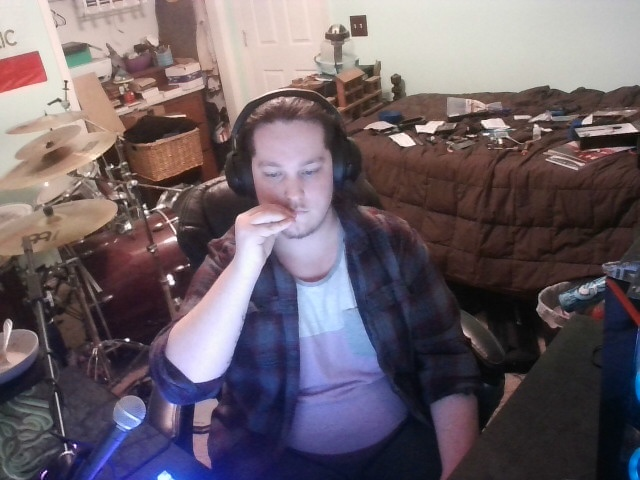eat: (225, 202, 301, 265)
